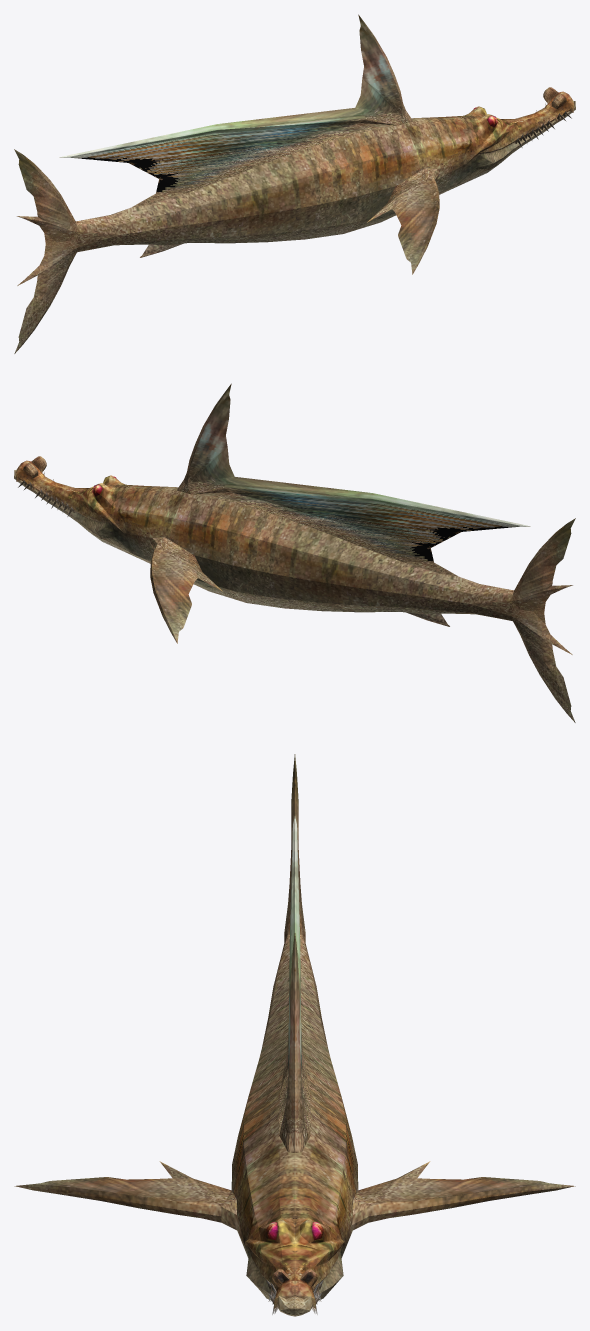
The model's file is Delex.glb.
3 renders of one model, top to bottom at view 1: azimuth 30°, elevation 25°; view 2: azimuth 150°, elevation 25°; view 3: azimuth 270°, elevation 25°, orthographic. The views are drawn at different scales.
Parts seen in each view (by area): view 1: m022_BM_Mesh; view 2: m022_BM_Mesh; view 3: m022_BM_Mesh.
Part boxes in pixels (box(x1,y1,x2,y2)): m022_BM_Mesh: box(14, 14, 575, 353); m022_BM_Mesh: box(14, 383, 575, 722); m022_BM_Mesh: box(14, 754, 575, 1316).
Size of the model in its own units: 8.12 by 3.56 by 4.61.
Materials: 1 (1 with a texture image).
